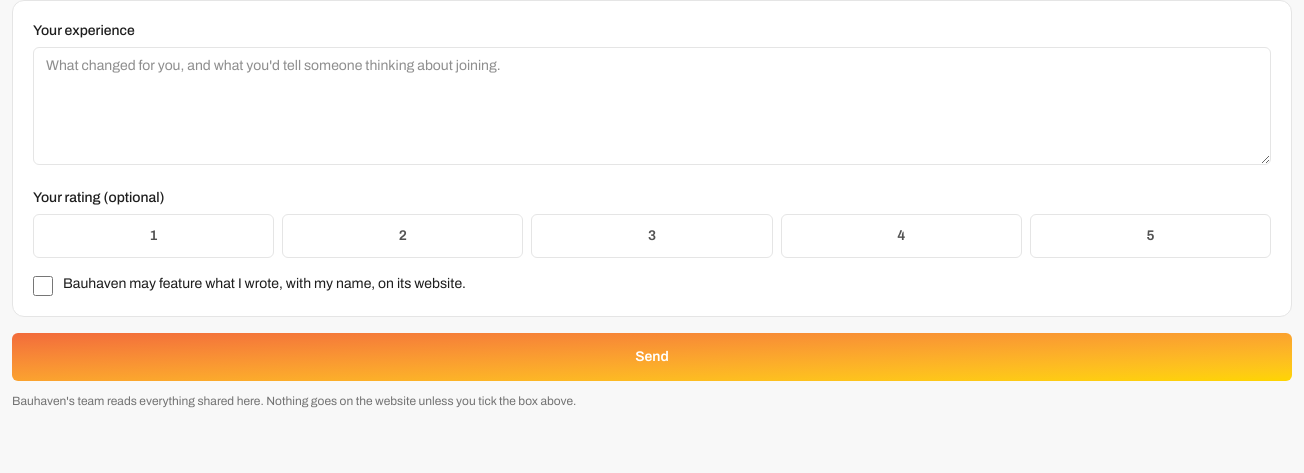
Scenario: TestimonyForm › shows a server failure and keeps what was typed
In the text box labelled "Your experience": (652, 106) top-left (33, 47), bottom-right (1271, 165), type "This bootcamp completely changed how I think about building things."
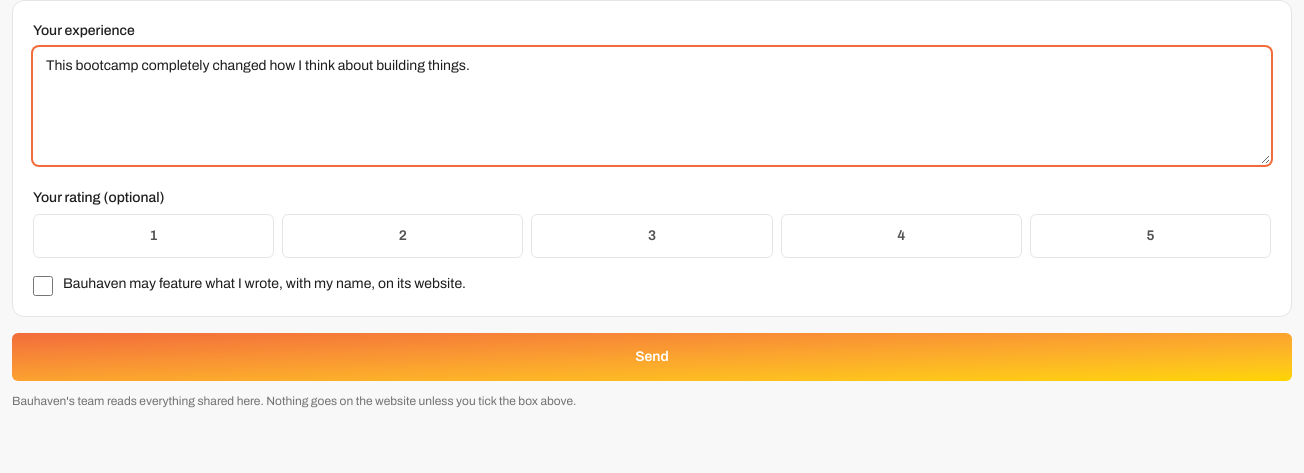
Click the button "Send": (652, 357) top-left (12, 333), bottom-right (1292, 381)
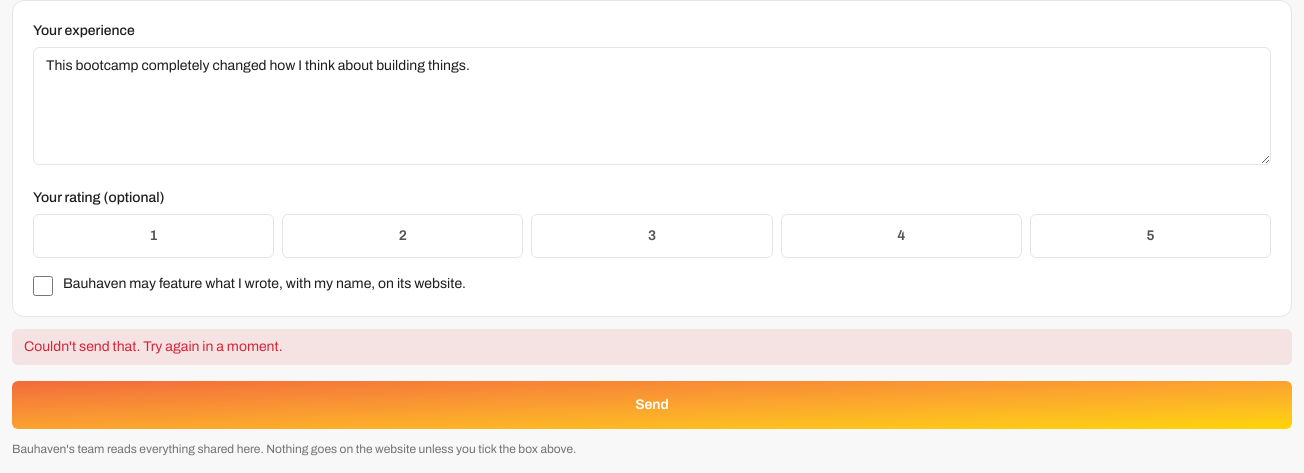
Expected: the message shows "Couldn't send", top-left (24, 339), bottom-right (282, 354)
